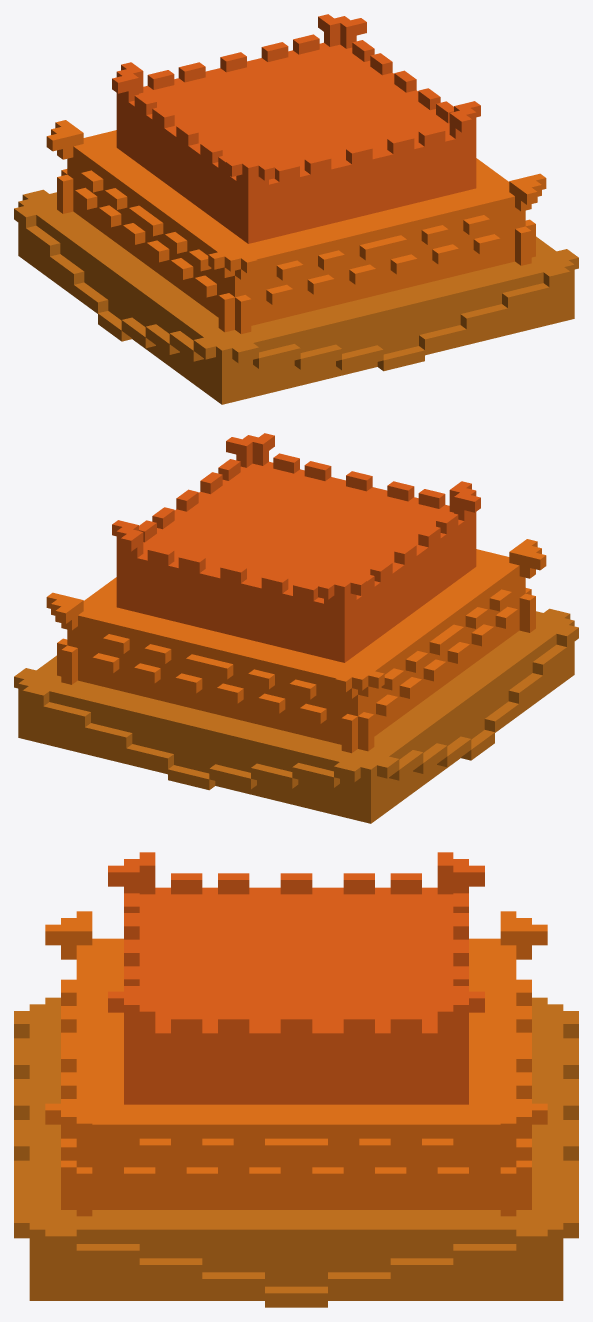
The model's file is tower3.obj.
3 views of the same model, one above another, from view 1: azimuth 30°, elevation 25°; view 2: azimuth 150°, elevation 25°; view 3: azimuth 270°, elevation 25° (orthographic). The views are drawn at different scales.
Size of the model in its own units: 3.6 by 1.8 by 3.6.
1 material, 1 textured.
